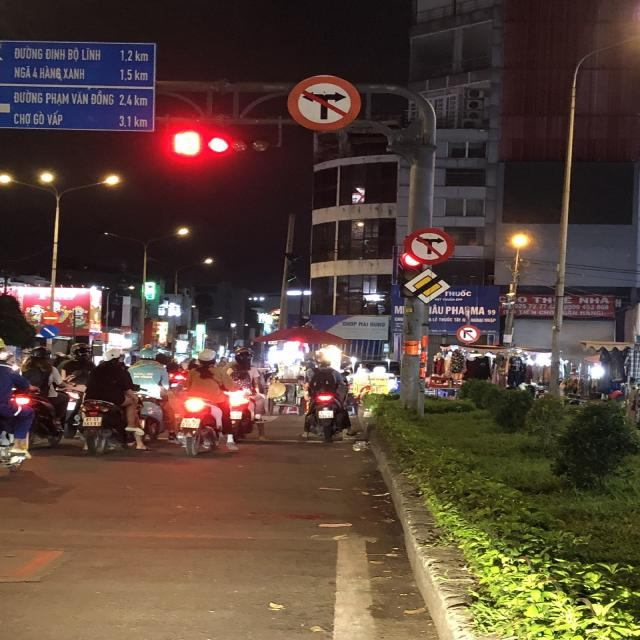Bien bao cam re phai: (454, 322, 480, 344)
